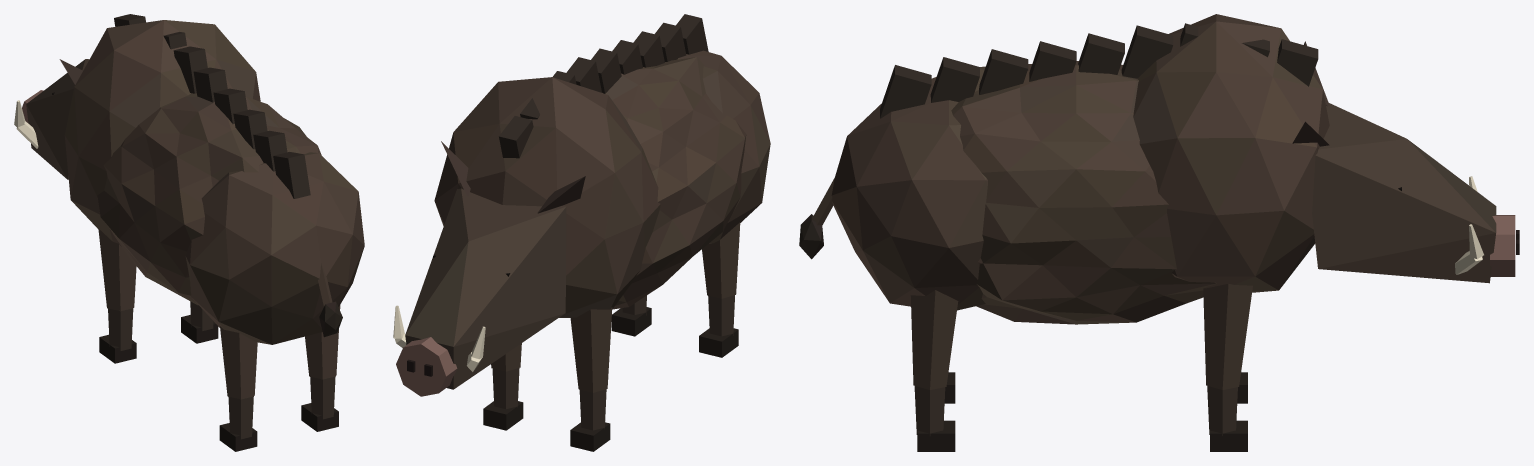
File: Boar.glb
3 views of the same model, side by side, from view 1: azimuth 30°, elevation 25°; view 2: azimuth 150°, elevation 25°; view 3: azimuth 270°, elevation 25° (orthographic). The views are drawn at different scales.
Visible parts, largest first — view 1: Mat_Wood_483b31, Mat_Wood_514238, Mat_Wood_2c241f, Mat_Cloth_e6dcc4; view 2: Mat_Wood_483b31, Mat_Wood_514238, Mat_Wood_2c241f, Mat_Cloth_e6dcc4; view 3: Mat_Wood_483b31, Mat_Wood_514238, Mat_Wood_2c241f, Mat_Cloth_e6dcc4.
Part boxes in pixels (x1,y1,x2,y2): Mat_Wood_483b31: (26, 20, 364, 399); Mat_Wood_514238: (22, 20, 364, 344); Mat_Wood_2c241f: (52, 14, 342, 451); Mat_Cloth_e6dcc4: (14, 100, 38, 148); Mat_Wood_483b31: (405, 58, 759, 392); Mat_Wood_514238: (396, 50, 770, 396); Mat_Wood_2c241f: (407, 14, 738, 451); Mat_Cloth_e6dcc4: (393, 305, 485, 371); Mat_Wood_483b31: (812, 14, 1496, 389); Mat_Wood_514238: (832, 14, 1515, 324); Mat_Wood_2c241f: (799, 23, 1519, 451); Mat_Cloth_e6dcc4: (1455, 176, 1483, 274).
Size of the model in its own units: 1.97 by 3.47 by 5.66.
1 material, 1 textured.
